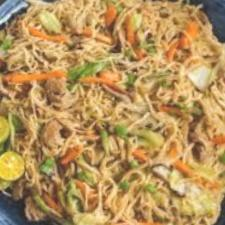pancit bihon: (0, 0, 224, 224)
